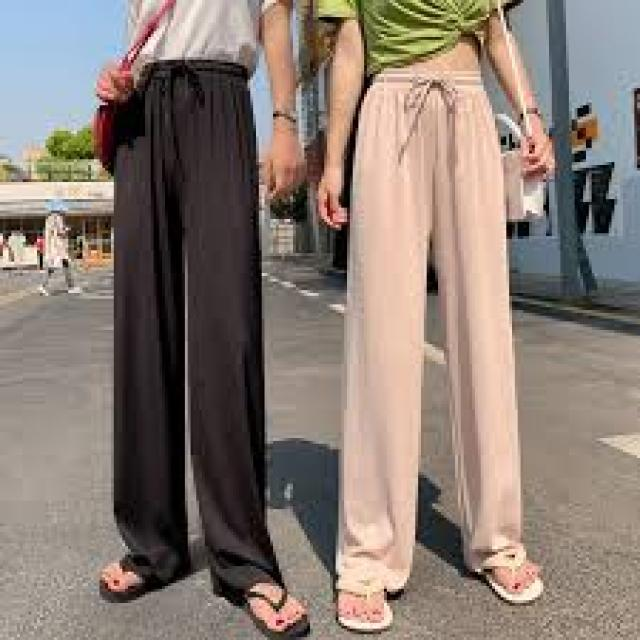long-pants: (335, 76, 525, 595), (110, 59, 286, 604)
